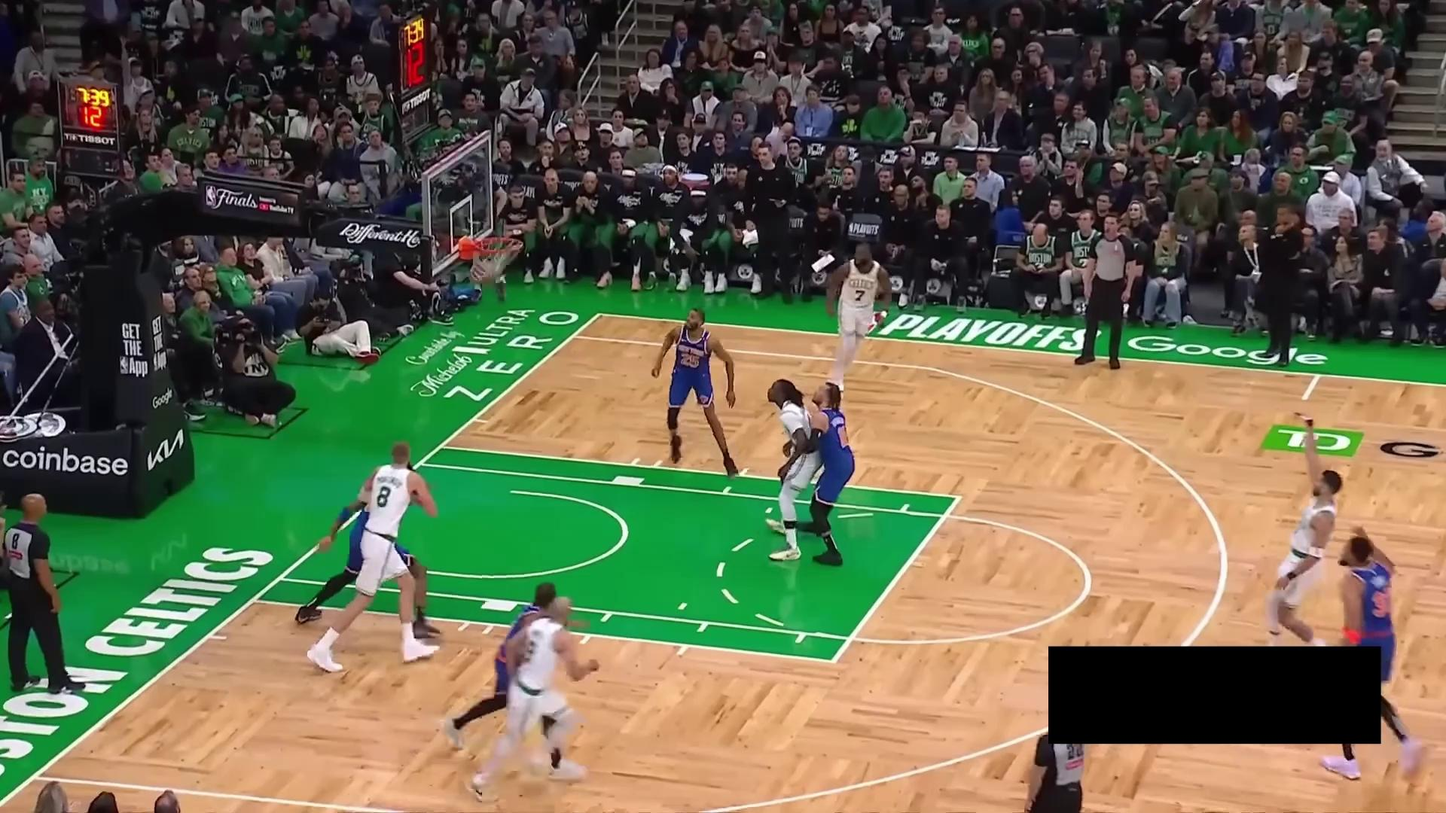ball: (470, 258, 500, 283)
ball-in-basket: (469, 235, 525, 284)
number: (679, 352, 700, 369), (837, 425, 851, 448), (377, 486, 391, 508), (853, 288, 866, 303)
player: (307, 443, 440, 674), (443, 581, 591, 782), (465, 588, 602, 804), (1318, 525, 1428, 787), (294, 460, 443, 640), (1264, 413, 1344, 646), (650, 306, 740, 480), (823, 239, 893, 402), (766, 375, 825, 566), (797, 381, 856, 568)
referee: (0, 493, 87, 693), (1073, 212, 1140, 371), (1019, 732, 1090, 813)
rim: (474, 236, 523, 254)
